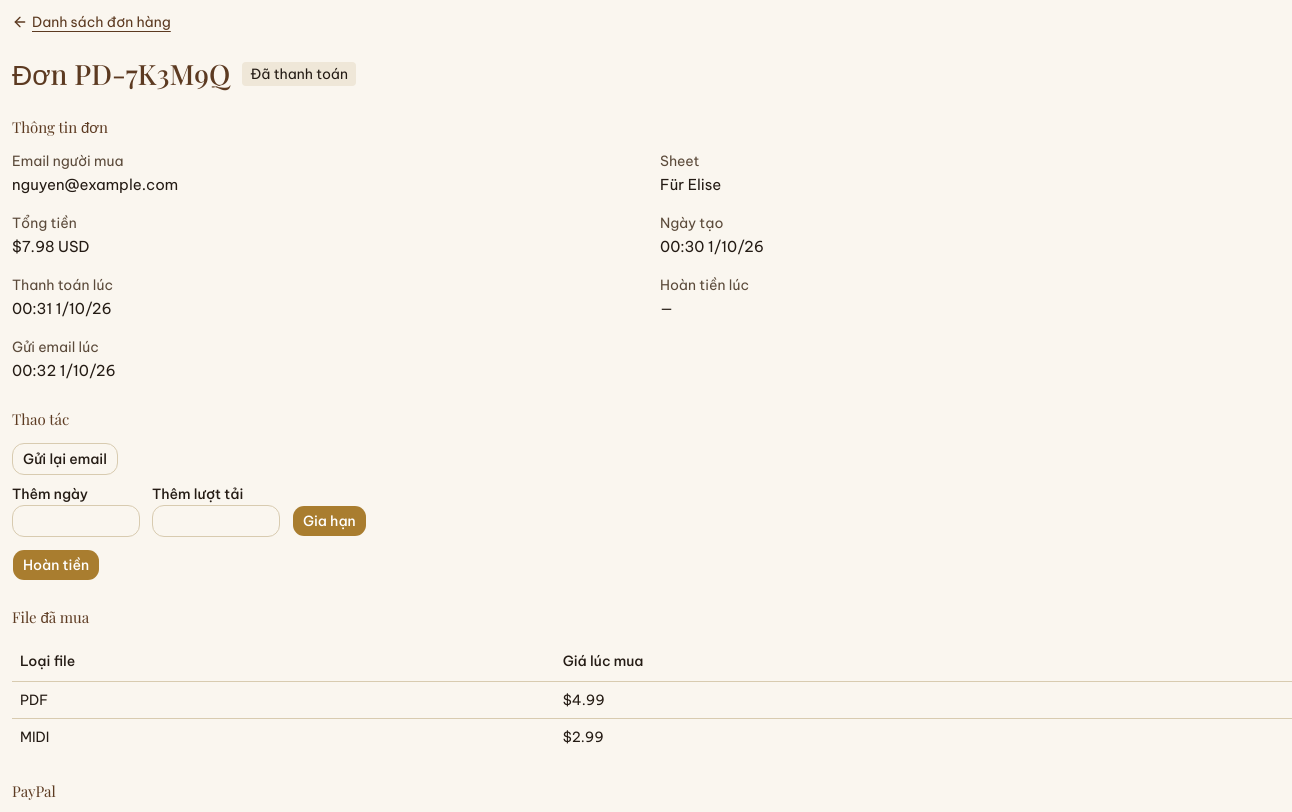
Scenario: Trang /orders/[id] — gửi lại email và gia hạn (Story 4.2) › gửi lại email lỗi: FormError nêu lý do cụ thể từ API
Click the button "Gửi lại email".
click(65, 459)  # box left=12, top=443, right=118, bottom=475
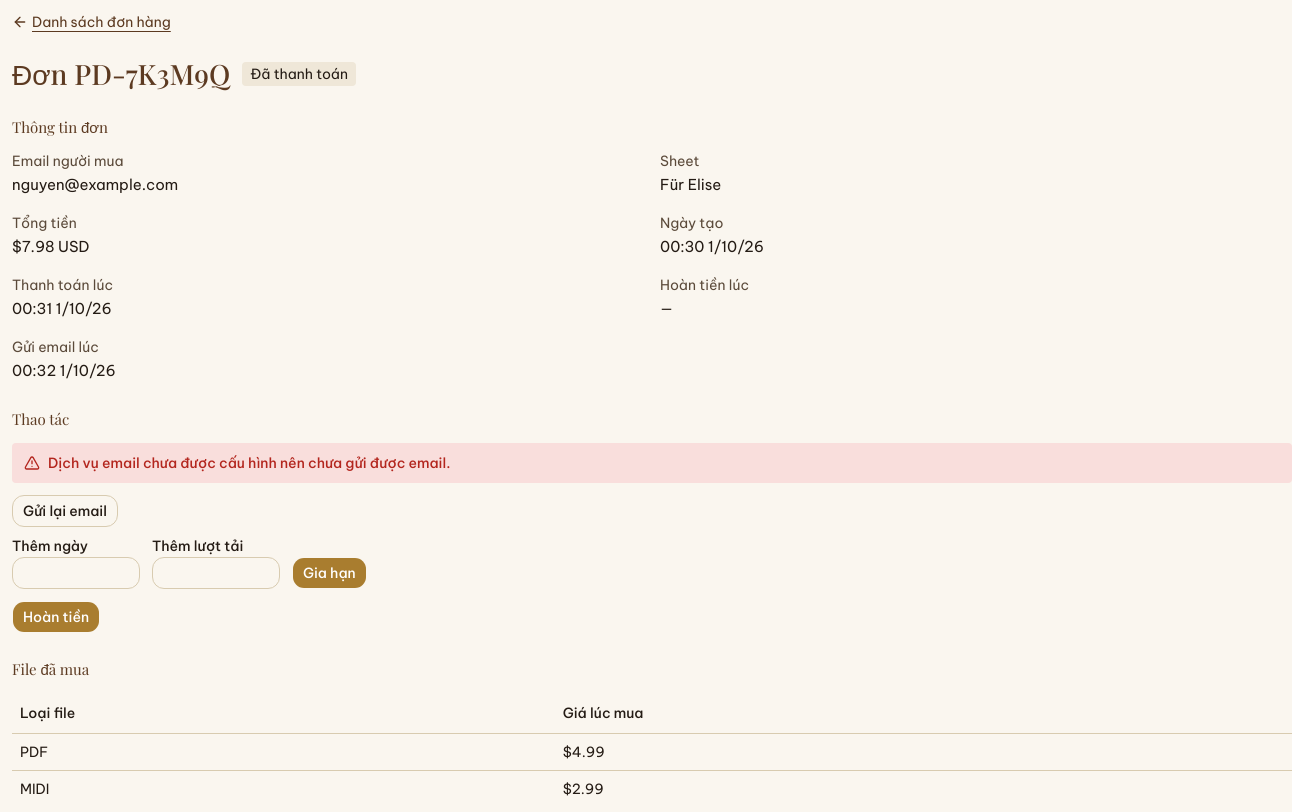
Expected: the message reads "Dịch vụ email chưa được cấu hình nên chưa gửi được email.", left=48, top=454, right=450, bottom=472
